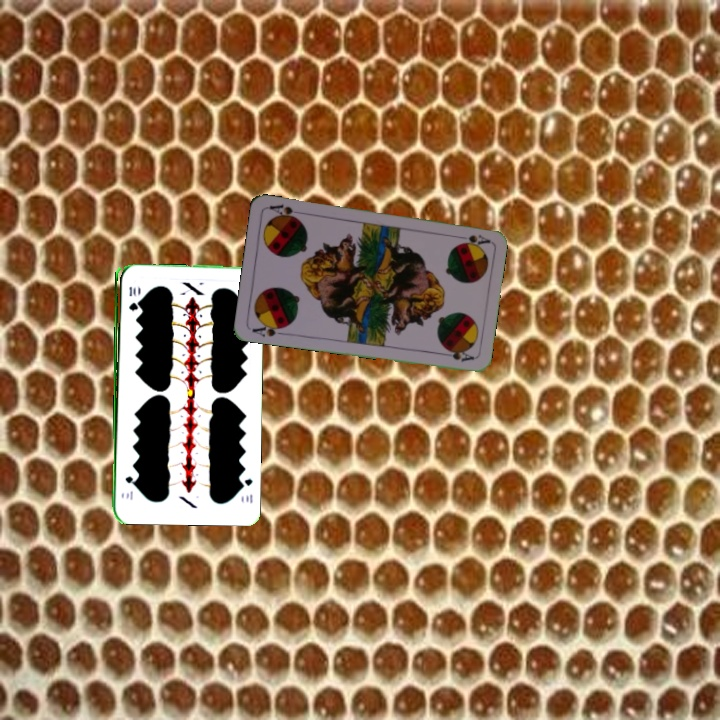G10: (236, 475, 255, 506), (125, 283, 138, 313)
SA: (248, 319, 289, 339), (451, 231, 492, 247)
